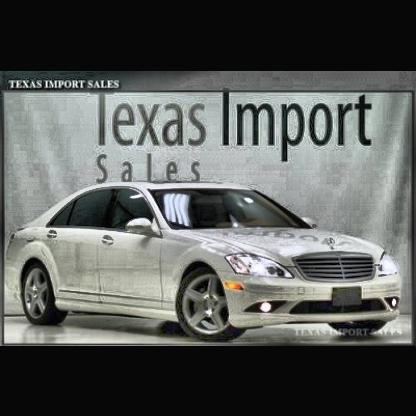Mercedes-Benz S-Class Sedan 2012: (9, 181, 407, 343)
